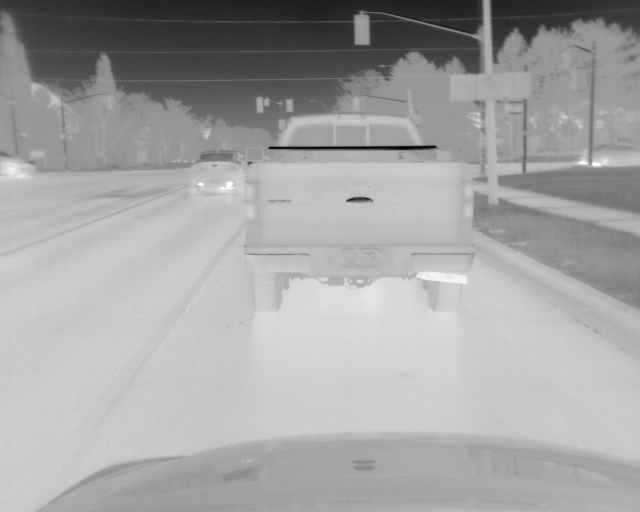car: (242, 114, 474, 315), (189, 149, 246, 197), (578, 138, 640, 167), (2, 151, 37, 185)
